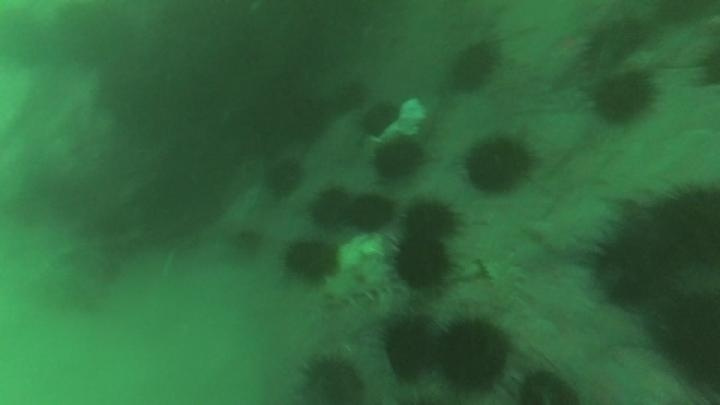echinus: (590, 226, 678, 308), (652, 288, 720, 389), (137, 166, 222, 244), (649, 181, 719, 270), (435, 319, 512, 393), (56, 3, 141, 70), (462, 135, 536, 196), (379, 317, 437, 382), (296, 352, 367, 405), (591, 69, 657, 126), (584, 18, 649, 70), (392, 235, 452, 291), (448, 39, 499, 94), (514, 367, 581, 405), (371, 136, 426, 182), (283, 239, 339, 283), (403, 199, 459, 240), (307, 186, 354, 230), (346, 193, 395, 235), (263, 156, 305, 199), (358, 100, 401, 139), (330, 78, 370, 115), (694, 45, 720, 90)
holothurian: (320, 255, 396, 310)
starfish: (583, 301, 649, 353), (549, 29, 592, 63)
